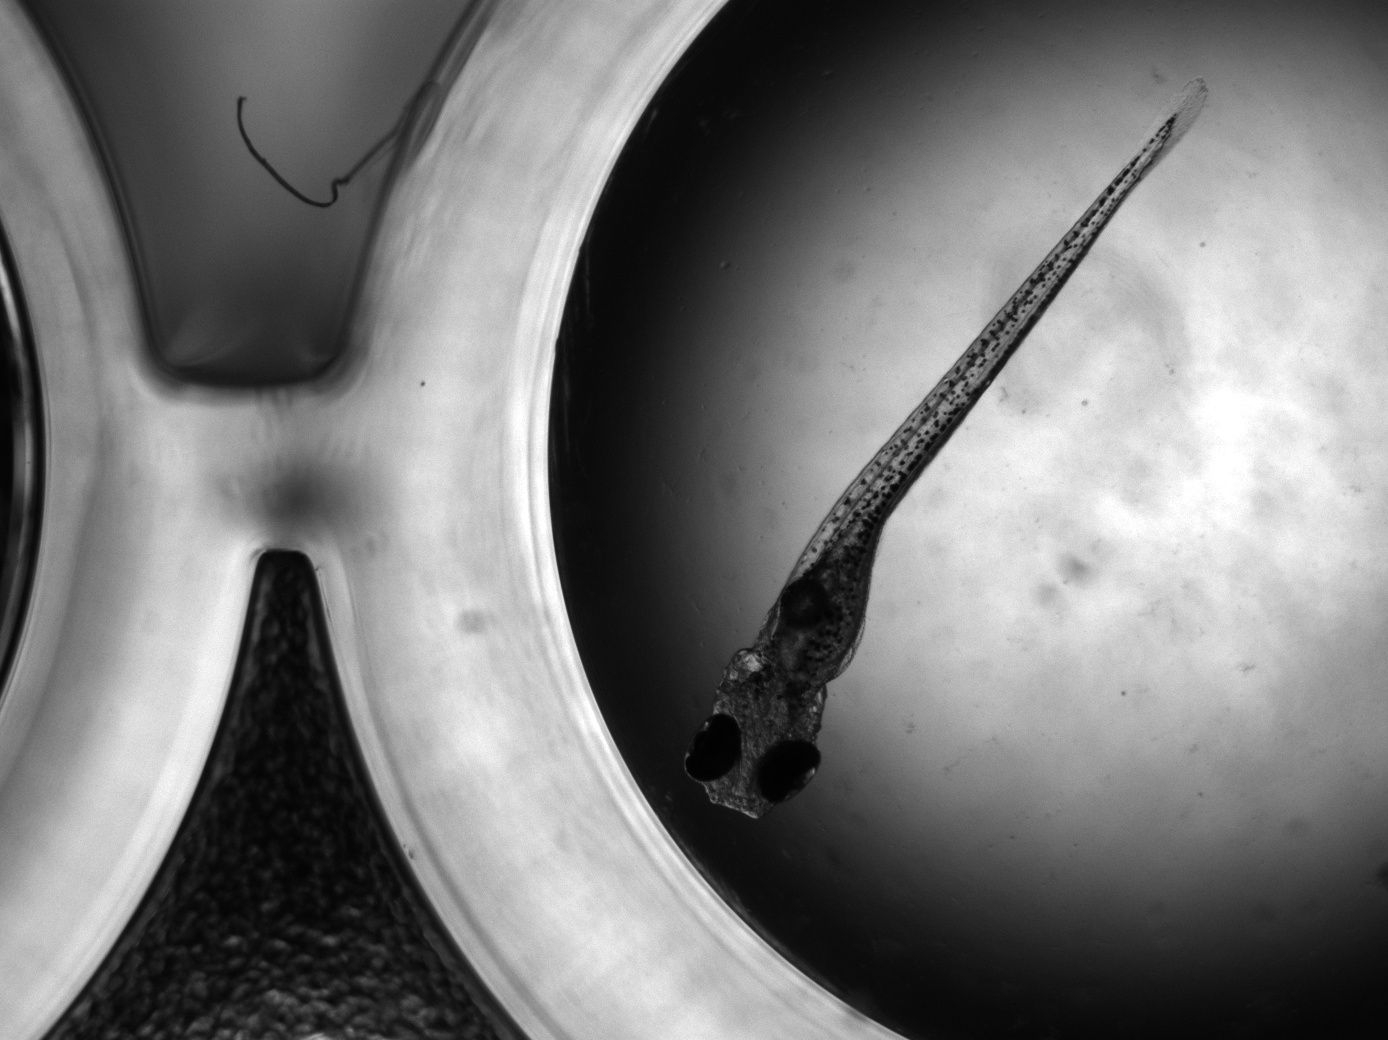embryo: (683, 78, 1209, 820)
eye: (754, 738, 822, 806), (683, 711, 744, 785)
yolksac: (758, 533, 874, 685)
